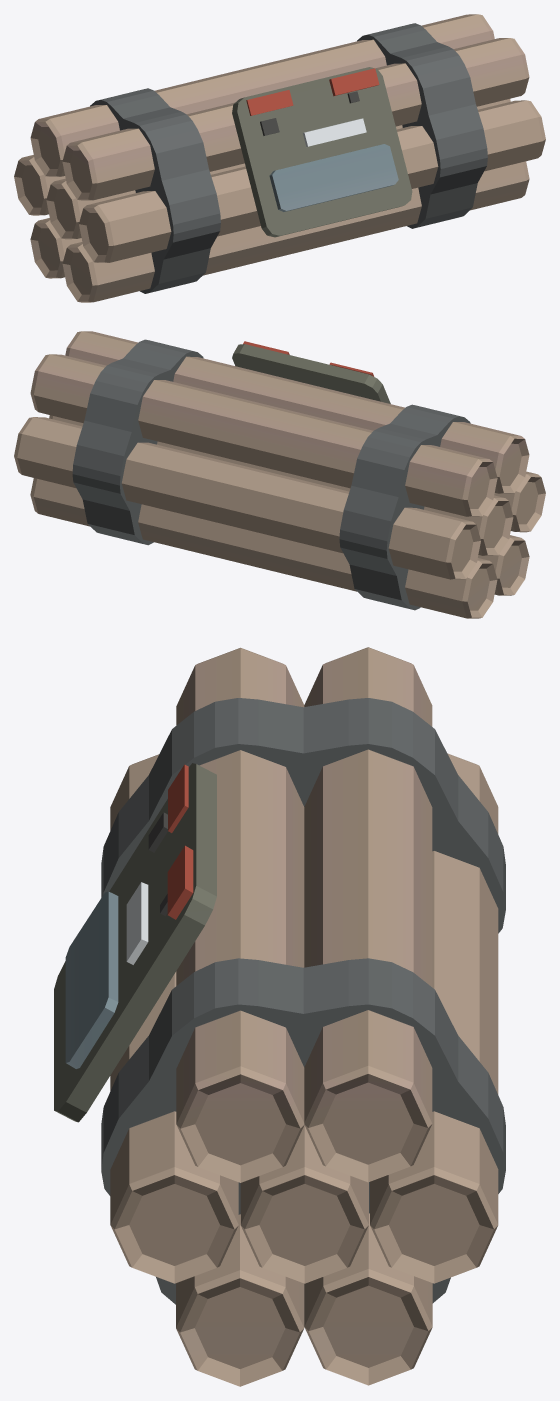
File: SM_TimeBomb_02.fbx
The picture shows the model from 3 angles, top to bottom: view 1: azimuth 30°, elevation 25°; view 2: azimuth 150°, elevation 25°; view 3: azimuth 270°, elevation 25°; orthographic projection. The views are drawn at different scales.
Visible parts, largest first — view 1: SM_TimeBomb_02; view 2: SM_TimeBomb_02; view 3: SM_TimeBomb_02.
Boxes of the visible parts, box(x1,y1,x2,y2) form: SM_TimeBomb_02: box(14, 14, 545, 302); SM_TimeBomb_02: box(14, 331, 545, 618); SM_TimeBomb_02: box(54, 647, 505, 1386).
Size of the model in its own units: 8.84 by 3.45 by 3.96.
Materials: 1 (1 with a texture image).
